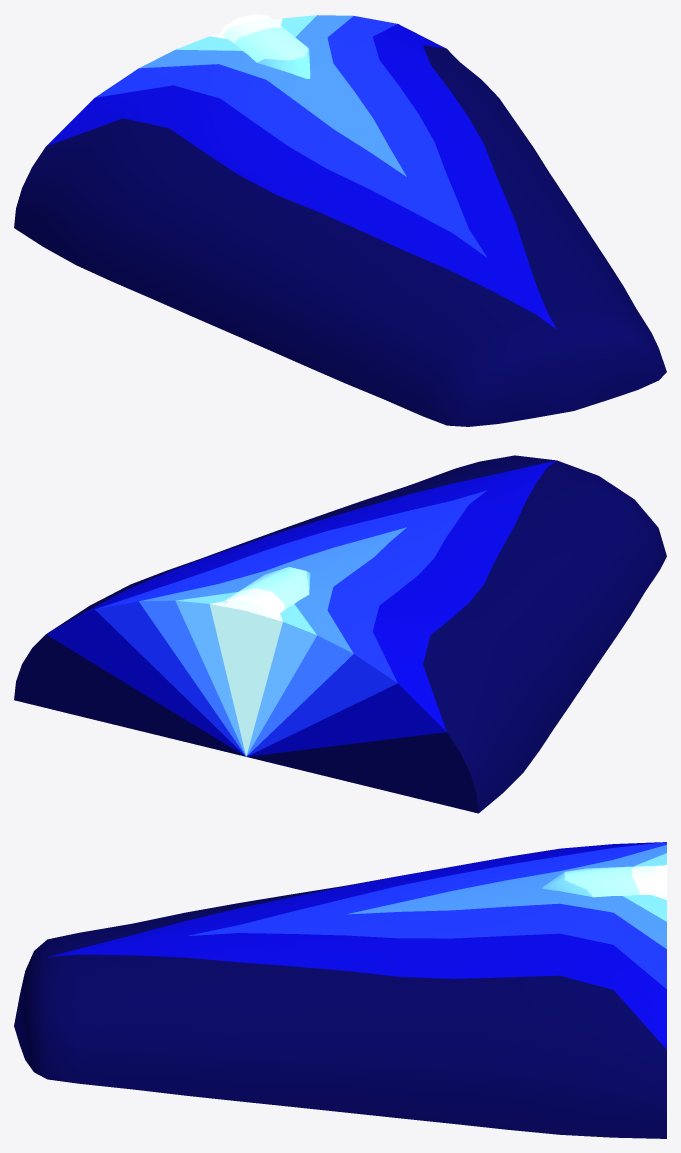
File: shot_zica_139.glb
3 views of the same model, one above another, from view 1: azimuth 30°, elevation 25°; view 2: azimuth 150°, elevation 25°; view 3: azimuth 270°, elevation 25° (orthographic).
Visible parts, largest first — view 1: shot_zica_139_rod, shot_zica_139_core; view 2: shot_zica_139_rod, shot_zica_139_core; view 3: shot_zica_139_rod, shot_zica_139_core.
Boxes of the visible parts, <box> form: shot_zica_139_rod: <box>14,15,666,426</box>; shot_zica_139_core: <box>220,14,310,78</box>; shot_zica_139_rod: <box>14,455,666,813</box>; shot_zica_139_core: <box>221,567,310,618</box>; shot_zica_139_rod: <box>14,842,666,1138</box>; shot_zica_139_core: <box>542,865,666,897</box>.
Size of the model in its own units: 12 by 3.83 by 14.65.
